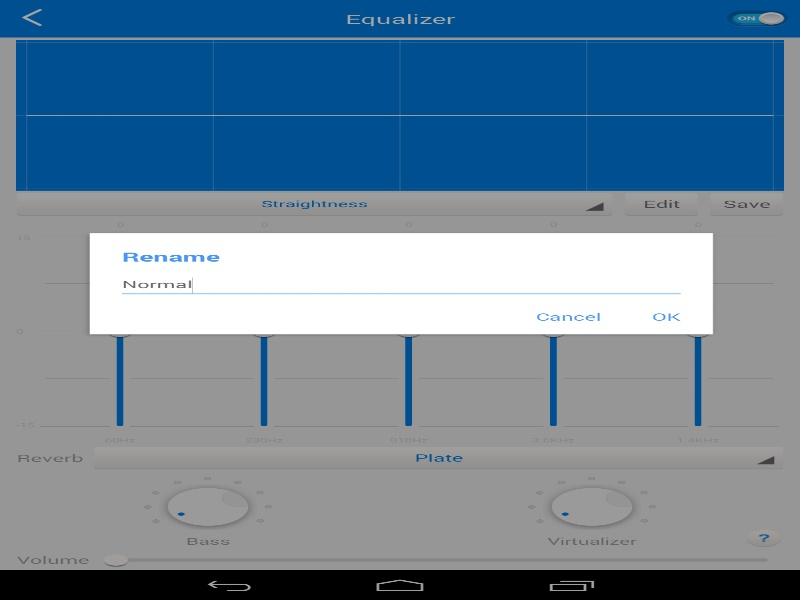Input: (122, 277, 680, 294)
